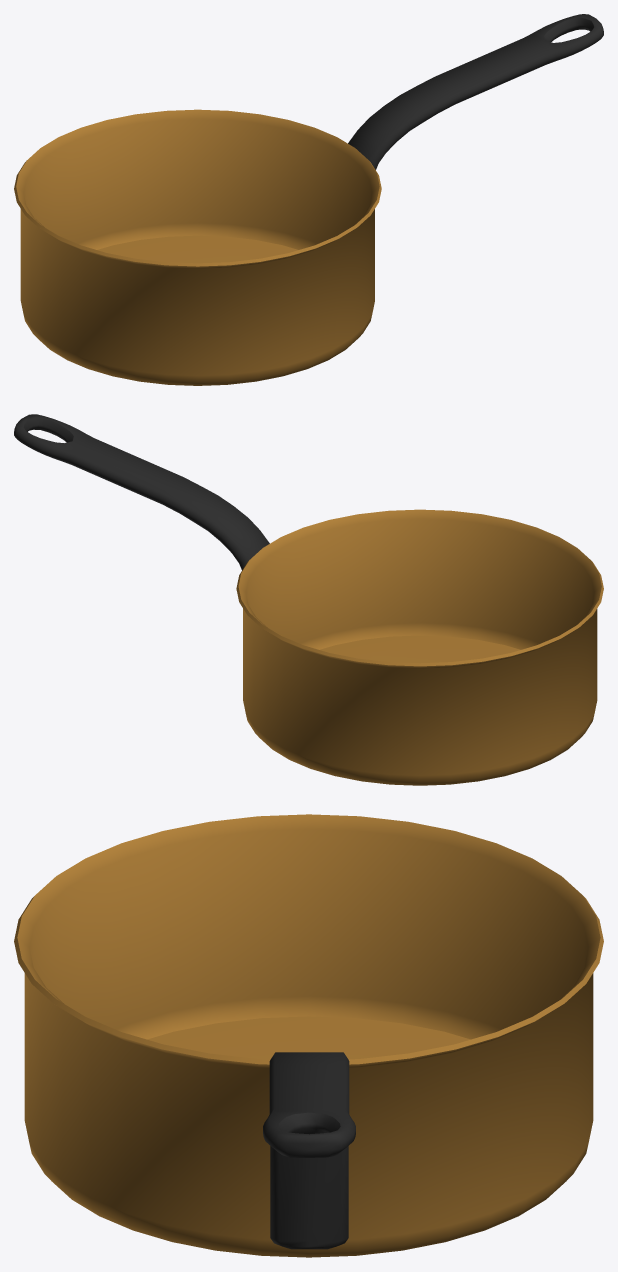
Rendered from pan.fbx.
3 views of the same model, one above another, from view 1: azimuth 30°, elevation 25°; view 2: azimuth 150°, elevation 25°; view 3: azimuth 270°, elevation 25° (orthographic). The views are drawn at different scales.
Parts seen in each view (by area): view 1: Pan3, Pan3.001; view 2: Pan3, Pan3.001; view 3: Pan3, Pan3.001.
Part boxes in pixels (box(x1,y1,x2,y2)): Pan3: box(14, 109, 381, 385); Pan3.001: box(348, 14, 603, 169); Pan3: box(236, 509, 603, 785); Pan3.001: box(14, 414, 269, 570); Pan3: box(14, 814, 603, 1257); Pan3.001: box(263, 1052, 355, 1249).
Size of the model in its own units: 29.17 by 9.86 by 16.61.
